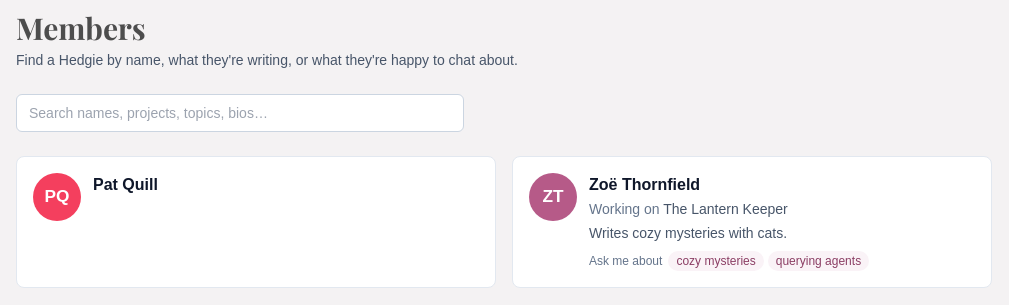
member directory page › filters as you type and by clicking a topic
Type "lantern" into the search field named "Search members" at (240, 113), box [16, 94, 464, 132]
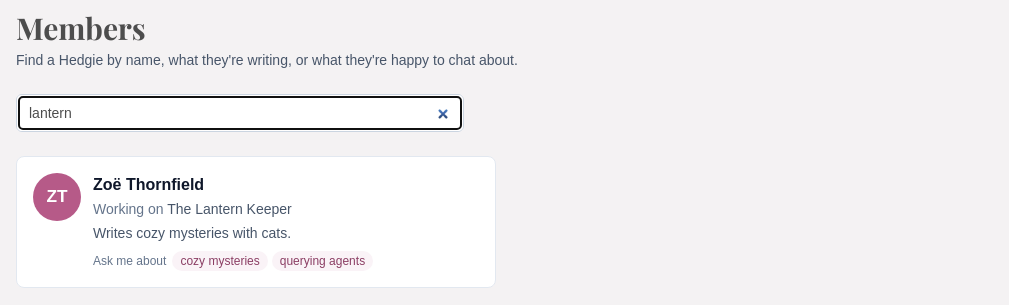
Expected: the link "Pat Quill" is gone
Clear the search field named "Search members" at (240, 113), box [16, 94, 464, 132]
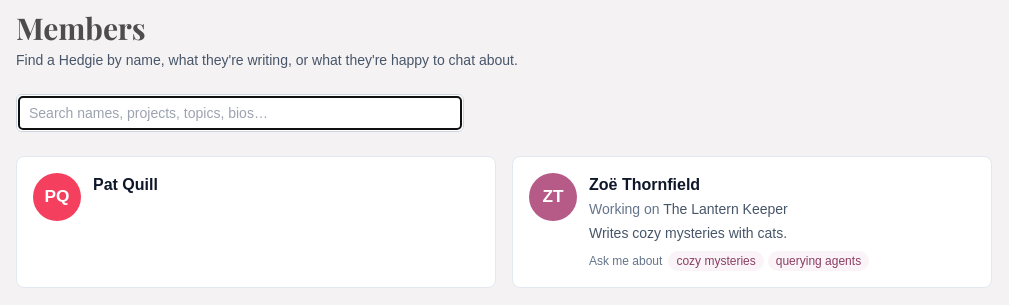
Click the button "cozy mysteries" at (716, 261), box [668, 251, 764, 271]
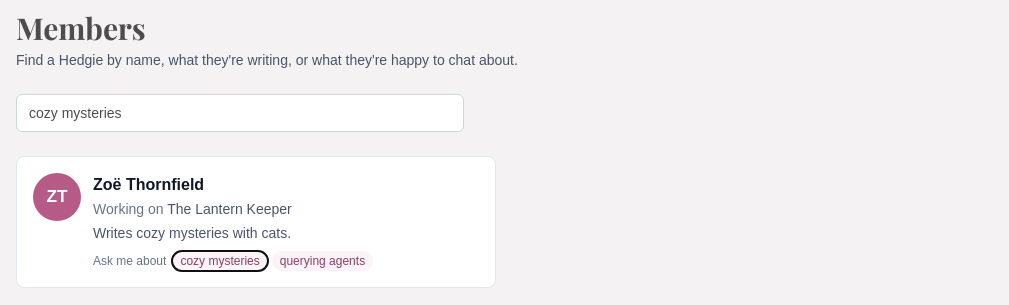
Expected: the link "Zoë Thornfield" is shown, [93, 173, 204, 197]
Expected: the search field named "Search members" holds "cozy mysteries", [16, 94, 464, 132]
